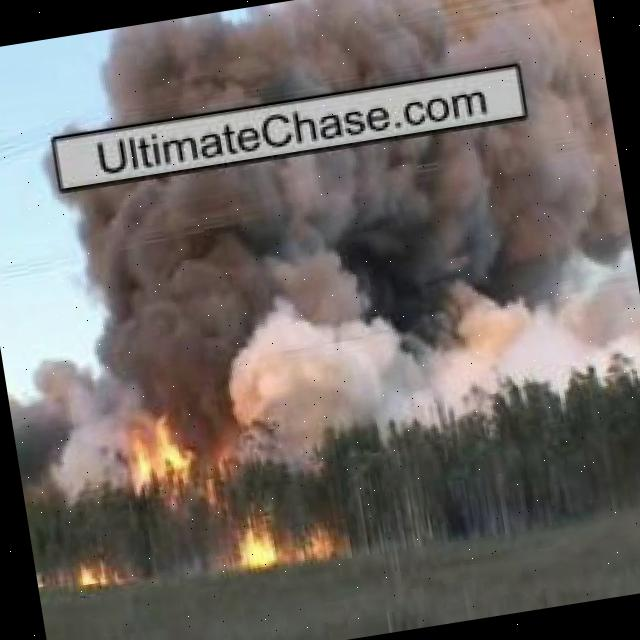fire: (114, 395, 206, 507), (241, 512, 286, 569), (71, 552, 112, 592), (308, 524, 339, 559)
